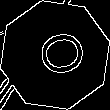O_W: (25, 28, 85, 82)
